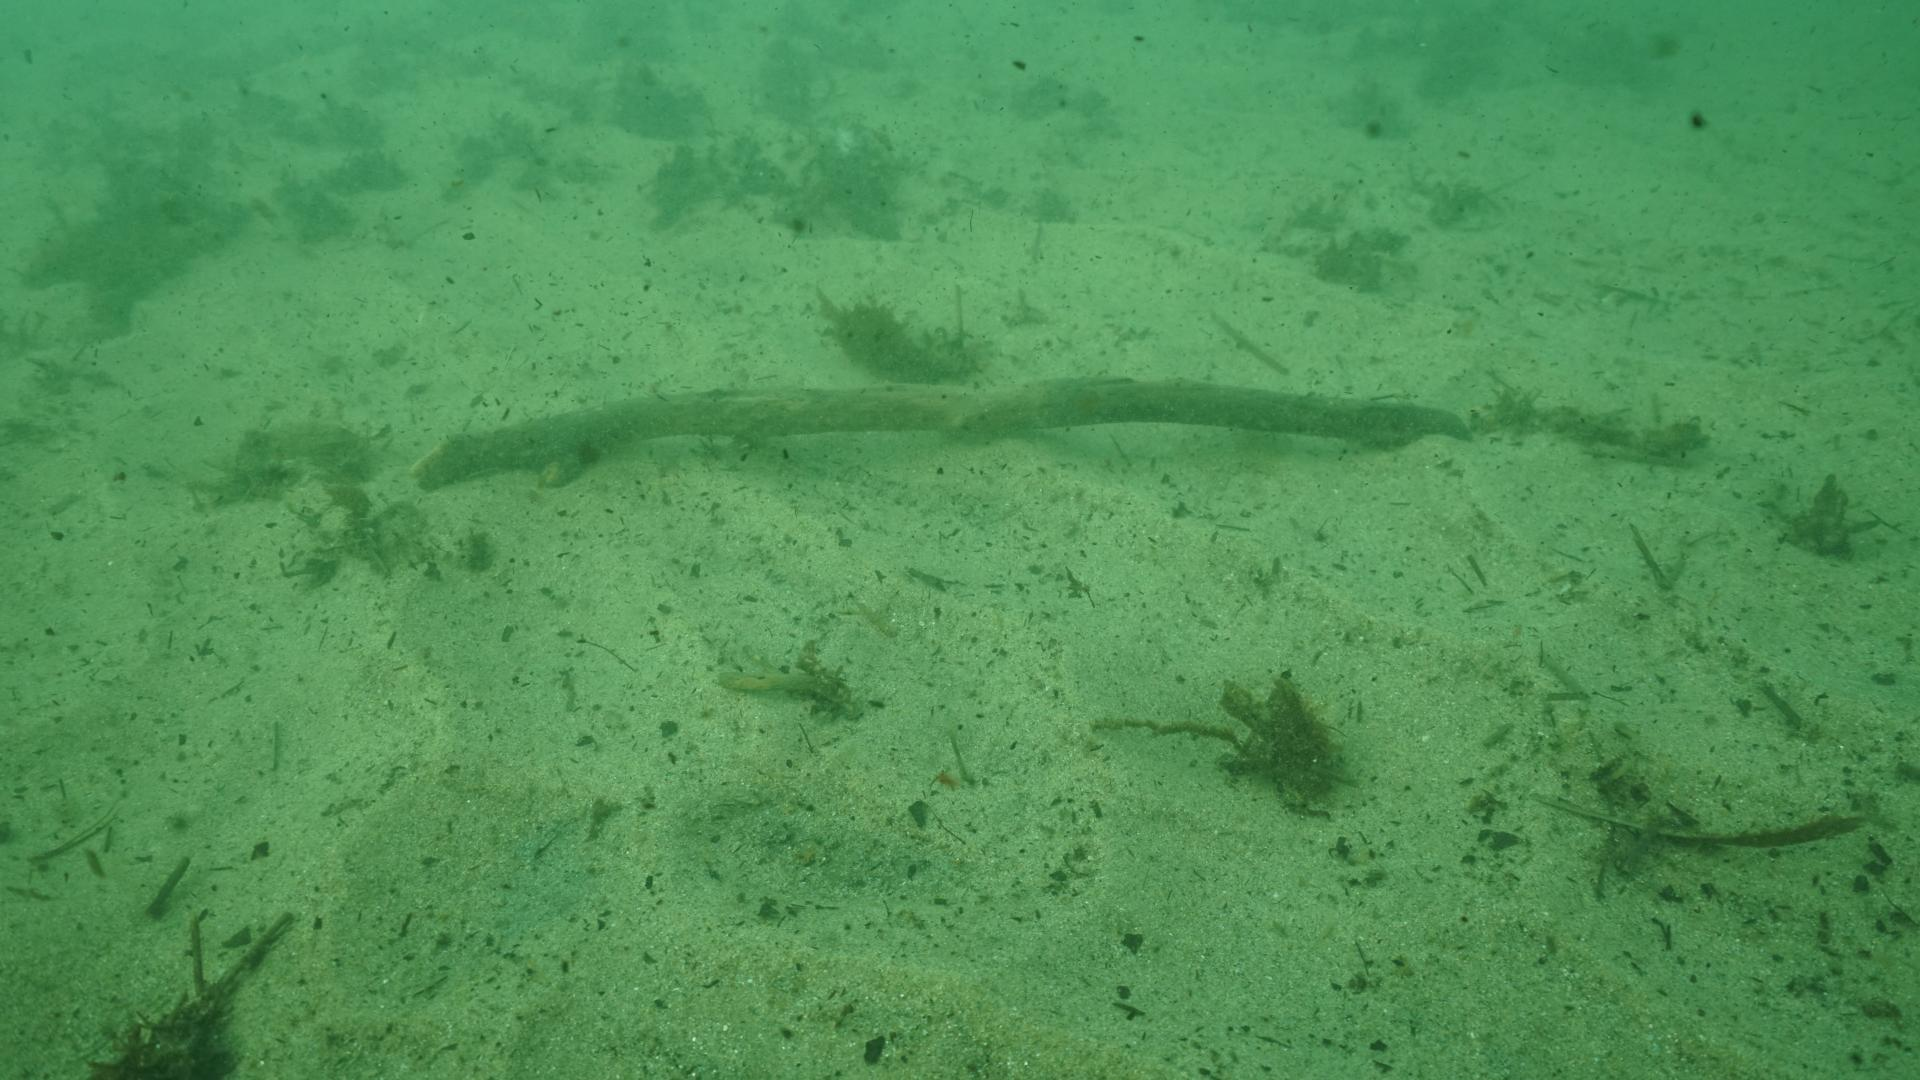wood: (405, 373, 1468, 495)
